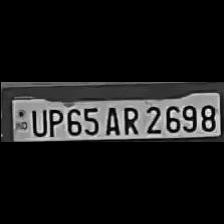2: (140, 104, 162, 134)
5: (80, 104, 100, 136)
6: (163, 102, 181, 134), (63, 105, 81, 136)
8: (198, 102, 216, 132)
9: (180, 102, 198, 132)
A: (100, 104, 119, 134)
P: (43, 105, 61, 137)
R: (118, 104, 140, 134)
U: (28, 106, 44, 136)
